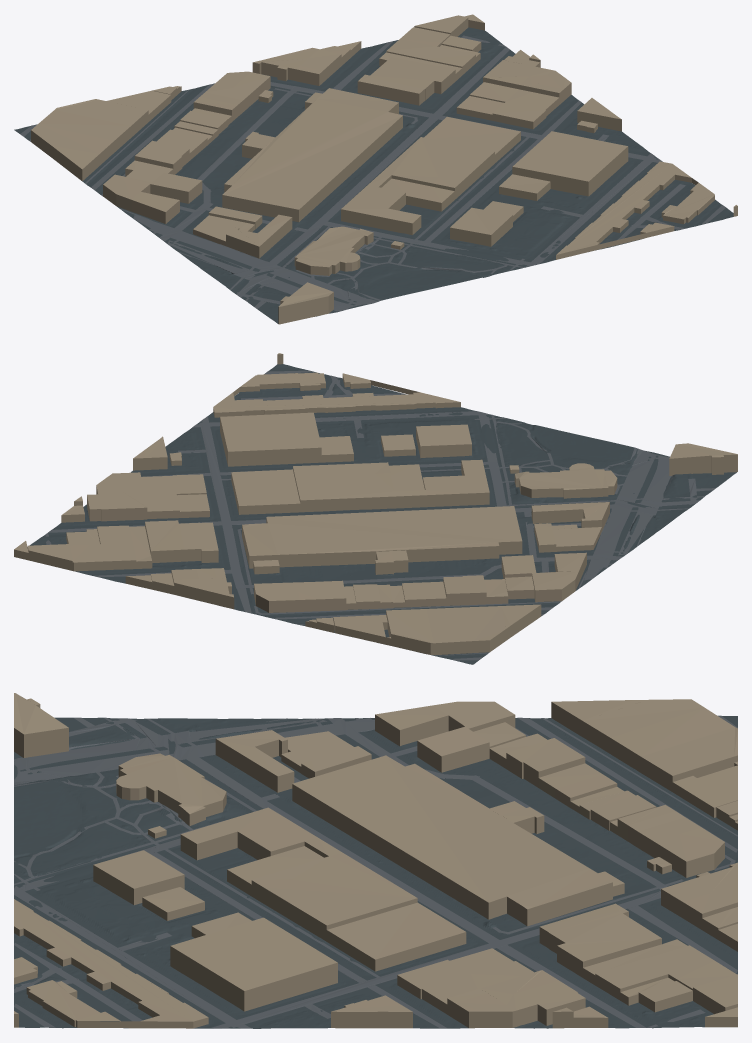
File: epsg26910-1441-10873.lod0.glb
3 views of the same model, one above another, from view 1: azimuth 30°, elevation 25°; view 2: azimuth 150°, elevation 25°; view 3: azimuth 270°, elevation 25° (orthographic). The views are drawn at different scales.
Parts seen in each view (by area): view 1: epsg26910-1441-10873-lod0; view 2: epsg26910-1441-10873-lod0; view 3: epsg26910-1441-10873-lod0.
Part boxes in pixels (box(x1,y1,x2,y2)): epsg26910-1441-10873-lod0: box(14, 14, 737, 324); epsg26910-1441-10873-lod0: box(14, 353, 737, 664); epsg26910-1441-10873-lod0: box(14, 693, 737, 1028).
Size of the model in its own units: 384 by 17.59 by 384.
